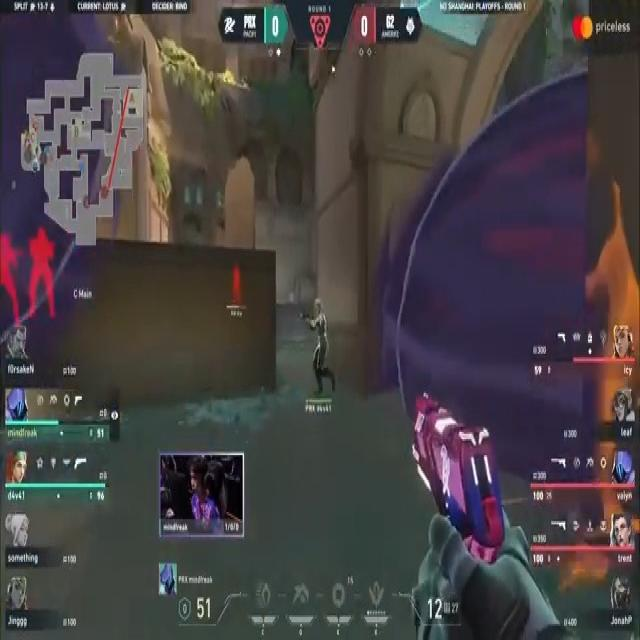ally: (300, 294, 340, 402)
